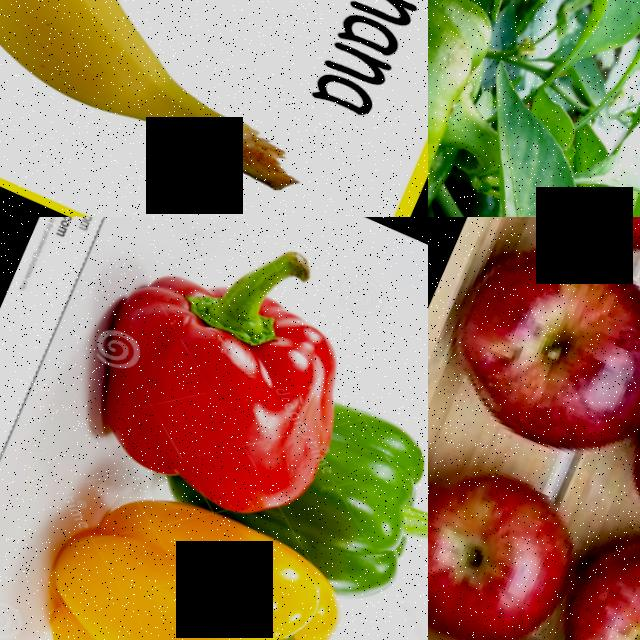apple: (428, 217, 640, 487), (428, 439, 604, 640), (523, 521, 640, 640), (505, 217, 640, 285)
banana: (0, 0, 428, 217)
bell pepper: (54, 217, 382, 540), (0, 468, 364, 640), (285, 384, 428, 619), (428, 0, 559, 217)
